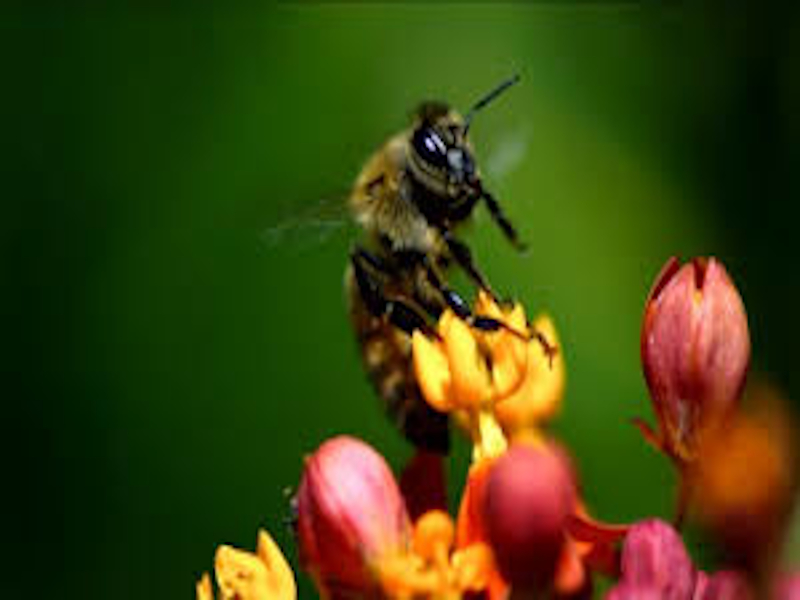abeja: (277, 49, 557, 474)
